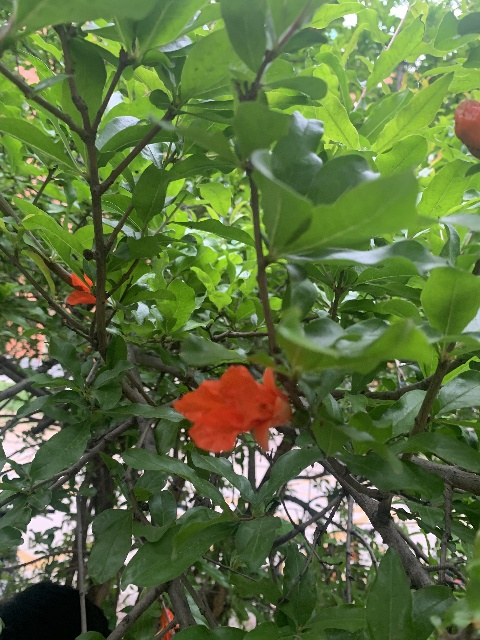bud: (453, 98, 480, 160)
flower: (172, 363, 292, 454), (65, 271, 97, 309), (156, 607, 179, 639)
